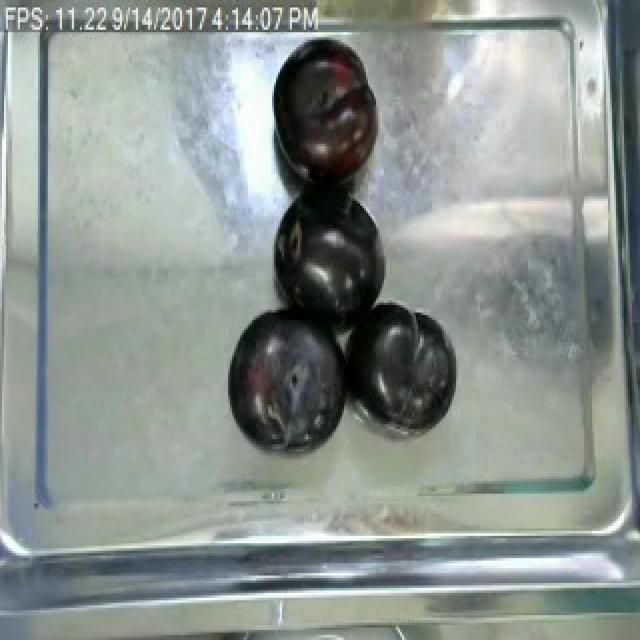Fruit: (216, 298, 354, 452), (270, 169, 384, 342), (266, 37, 388, 194), (338, 295, 462, 432)
